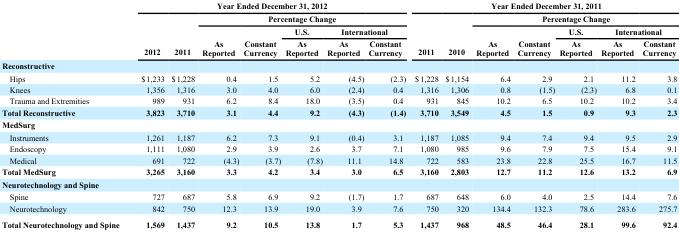table: (1, 1, 676, 228)
table column: (1, 1, 129, 228), (365, 1, 409, 228), (197, 1, 240, 228), (513, 1, 556, 228), (240, 1, 282, 228), (282, 1, 324, 228), (471, 1, 513, 228), (556, 1, 598, 228), (324, 1, 365, 228), (598, 1, 638, 228), (129, 1, 167, 228), (638, 1, 676, 228), (409, 1, 441, 228), (167, 1, 197, 228), (441, 1, 471, 228)
table column header: (1, 1, 676, 58)
table projected row header: (1, 58, 676, 71), (1, 177, 676, 190), (1, 118, 676, 130)
table row: (1, 37, 676, 58), (1, 202, 676, 216), (1, 24, 676, 37), (1, 58, 676, 71), (1, 177, 676, 190), (1, 12, 676, 24), (1, 71, 676, 83), (1, 94, 676, 106), (1, 106, 676, 118), (1, 118, 676, 130), (1, 130, 676, 142), (1, 142, 676, 154), (1, 165, 676, 177), (1, 190, 676, 202), (1, 216, 676, 228), (1, 1, 676, 12), (1, 83, 676, 94), (1, 154, 676, 165)
table spanning cell: (129, 1, 409, 12), (409, 1, 676, 12), (197, 12, 409, 24), (471, 12, 676, 24), (129, 12, 167, 58), (409, 12, 441, 58), (197, 24, 240, 58), (513, 24, 556, 58), (240, 24, 282, 58), (282, 24, 324, 58), (471, 24, 513, 58), (556, 24, 598, 58), (167, 12, 197, 58), (441, 12, 471, 58), (324, 24, 409, 37), (598, 24, 676, 37)
